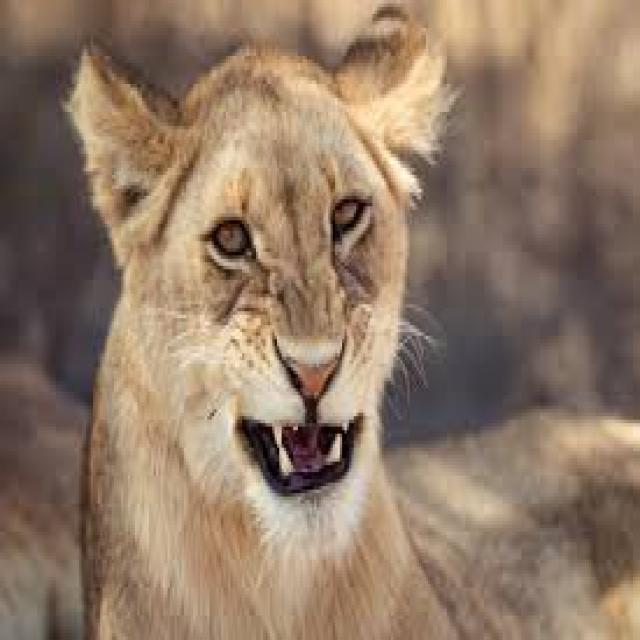Lion: (60, 18, 638, 636)
